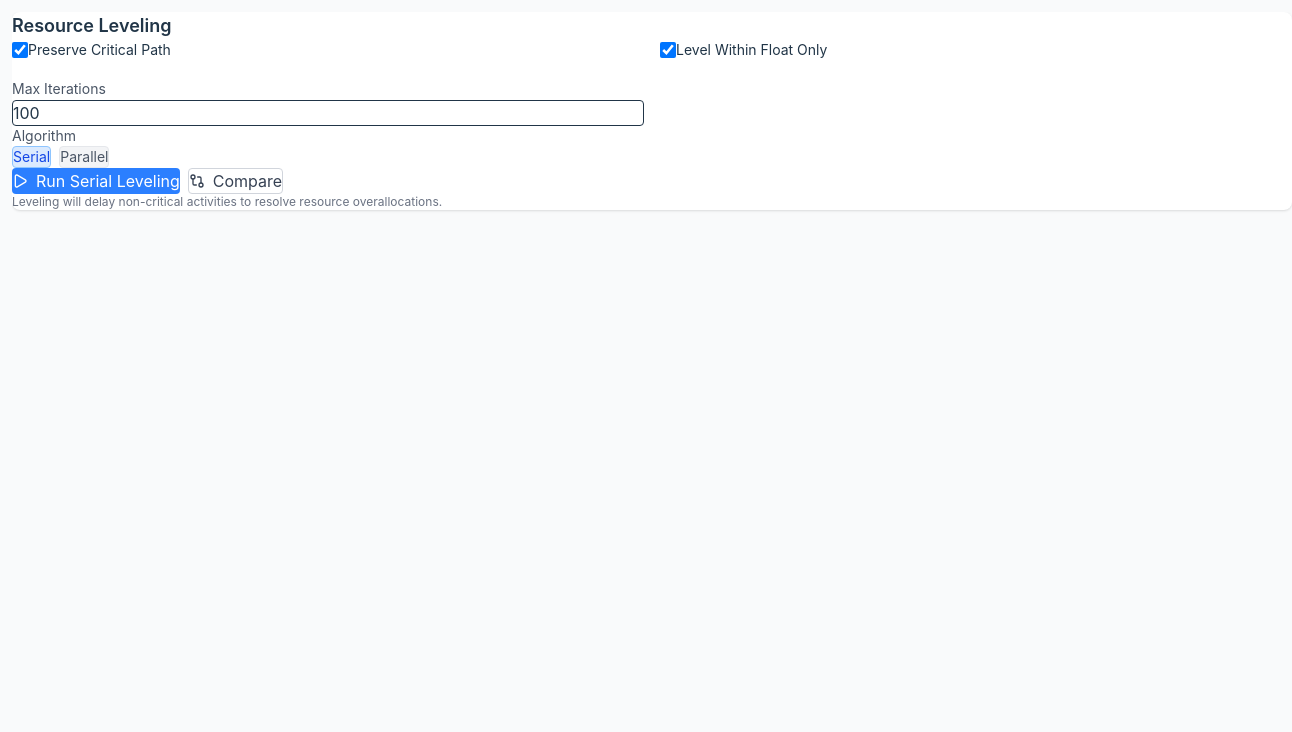
Test case: LevelingPanel › shows comparison results when Compare clicked
Click the button "Compare" at (235, 181), box [188,168,283,194]
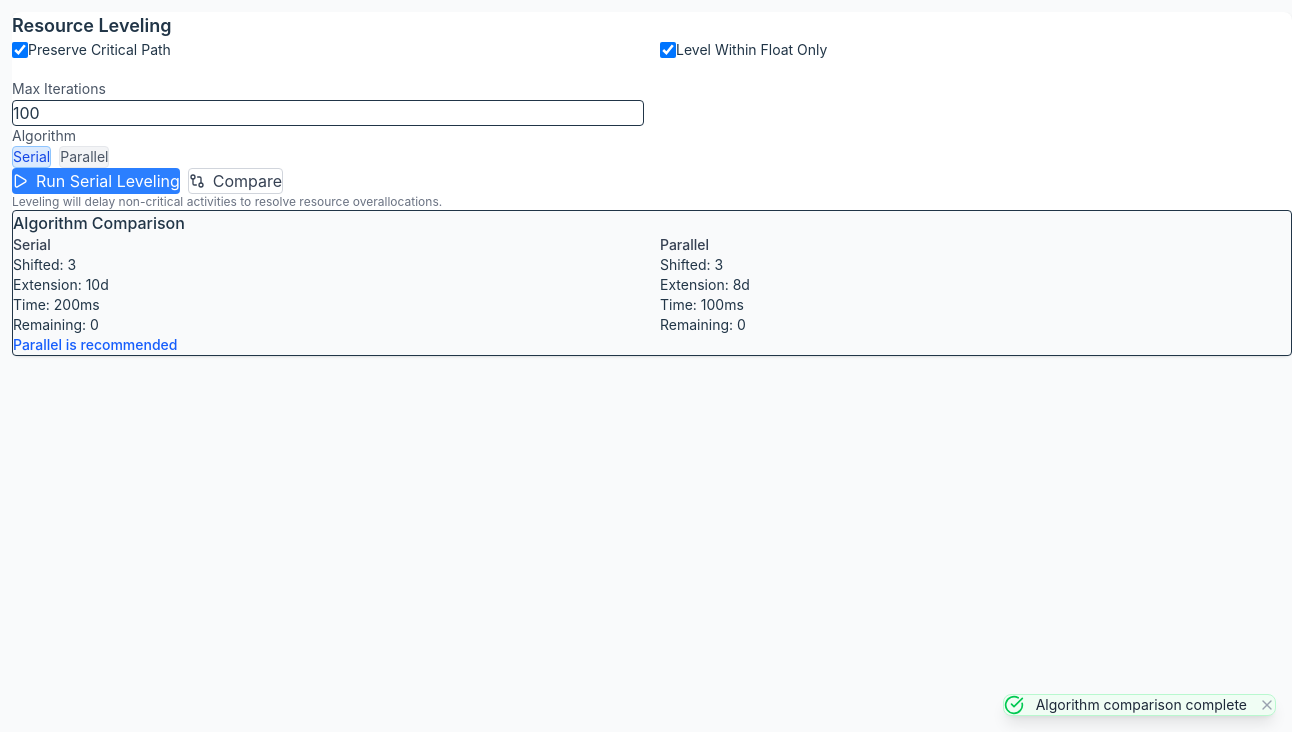
Result: the heading "Algorithm Comparison" is shown at [13,213,185,233]
Result: the text "Parallel is recommended" is shown at [13,336,178,353]
